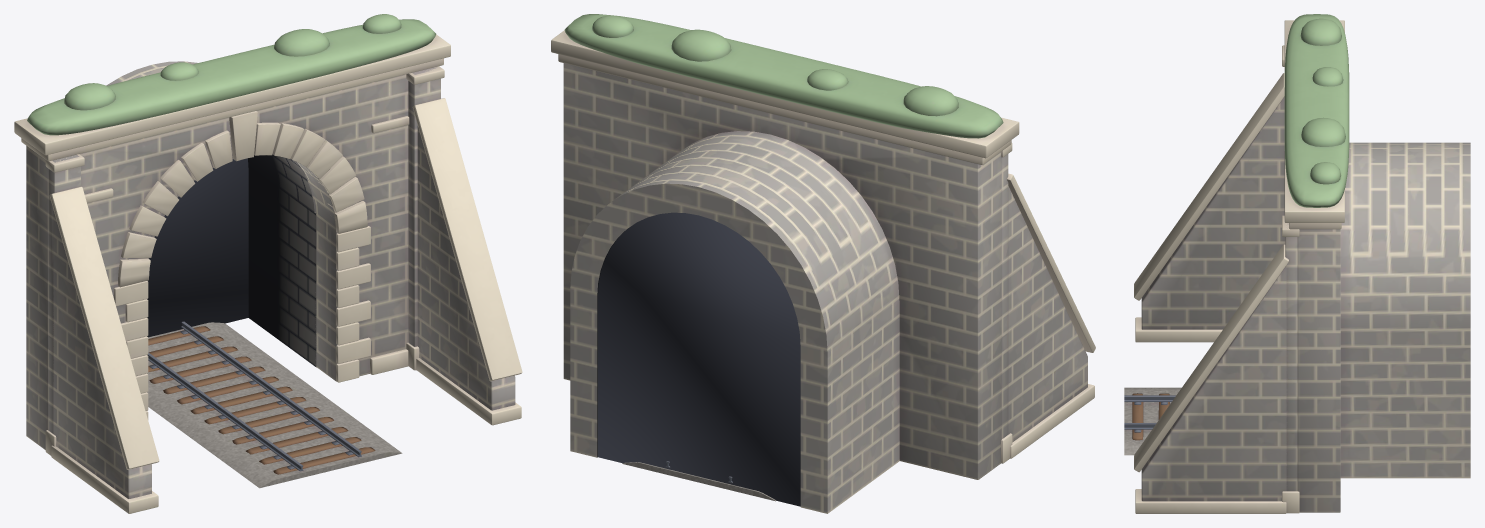
Rendered from grab3d-tunnel-portal.glb.
3 views of the same model, side by side, from view 1: azimuth 30°, elevation 25°; view 2: azimuth 150°, elevation 25°; view 3: azimuth 270°, elevation 25° (orthographic). The views are drawn at different scales.
Parts seen in each view (by area): view 1: tunnel-portal_body, tunnel-portal_tunnel_shadow; view 2: tunnel-portal_body, tunnel-portal_tunnel_shadow; view 3: tunnel-portal_body.
Boxes of the visible parts, x1,y1,x2,y2 form: tunnel-portal_body: (14,14,522,513); tunnel-portal_tunnel_shadow: (147,158,248,337); tunnel-portal_body: (551,14,1095,513); tunnel-portal_tunnel_shadow: (598,212,800,506); tunnel-portal_body: (1124,14,1470,513).
Size of the model in its own units: 10.5 by 8.51 by 8.
2 materials, 1 textured.
